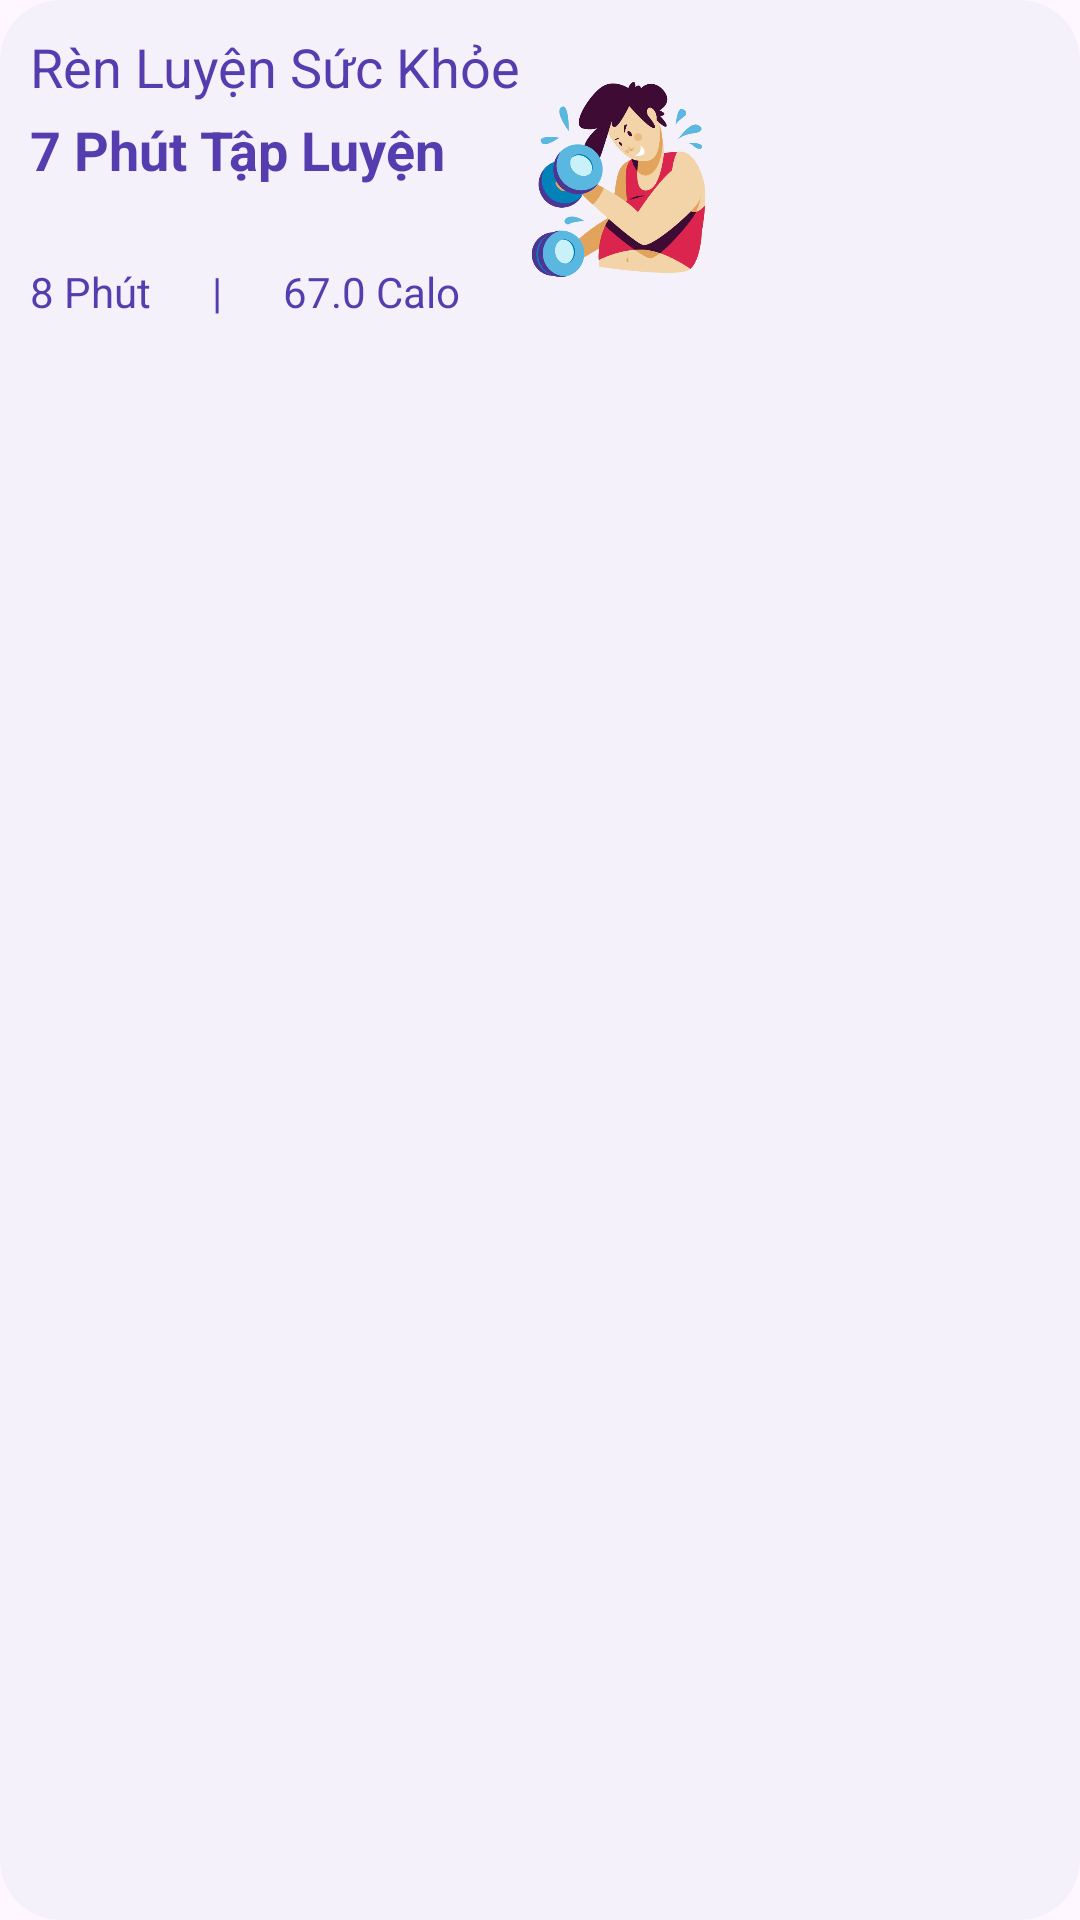

Icon bounding boxes for this 1080w x 1920h phone screenshot, format (x1, y1, x2, y2):
fitness gym: (532, 82, 705, 277)
